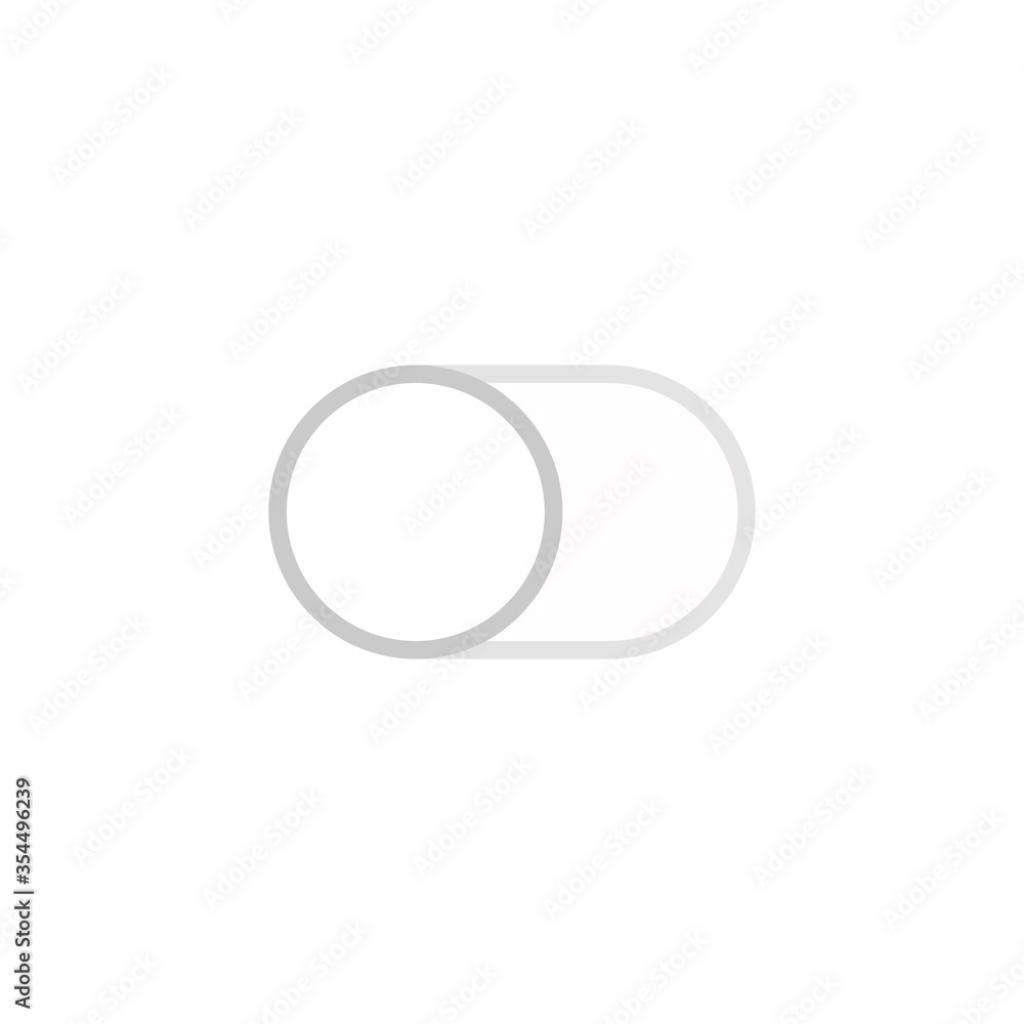switch: (262, 363, 758, 667)
